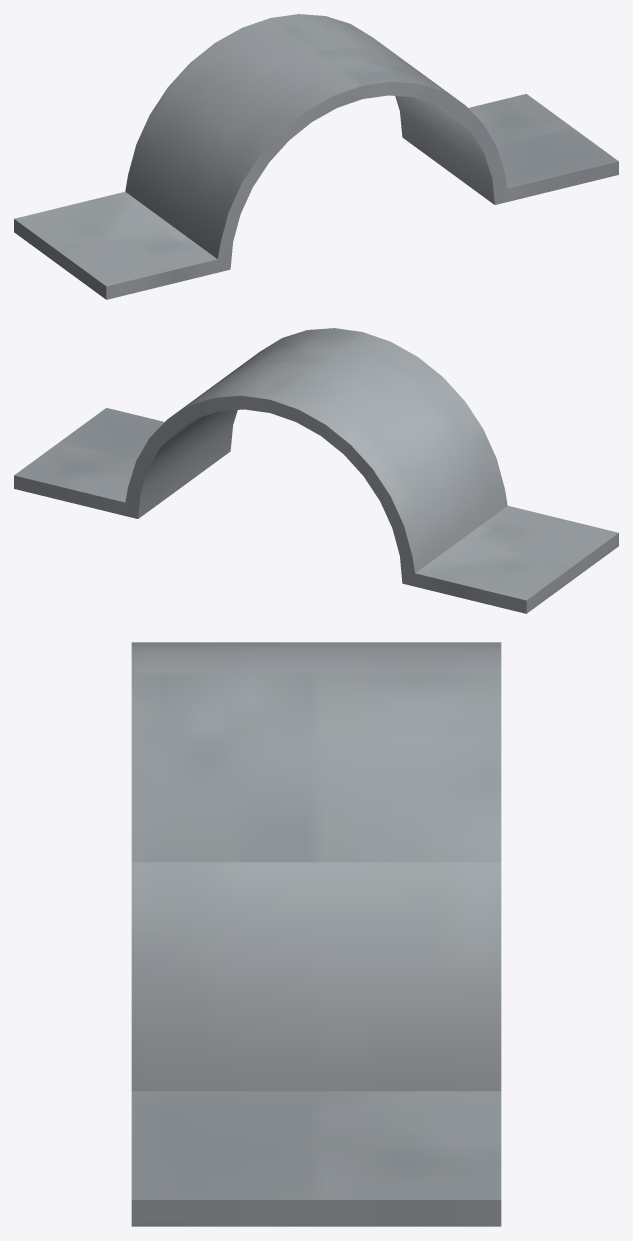
Rendered from HID-INS-004.glb.
3 views of the same model, one above another, from view 1: azimuth 30°, elevation 25°; view 2: azimuth 150°, elevation 25°; view 3: azimuth 270°, elevation 25° (orthographic). The views are drawn at different scales.
Parts seen in each view (by area): view 1: HID-INS-004_abracadeira; view 2: HID-INS-004_abracadeira; view 3: HID-INS-004_abracadeira.
Boxes of the visible parts, x1,y1,x2,y2 form: HID-INS-004_abracadeira: (14, 14, 618, 299); HID-INS-004_abracadeira: (14, 328, 618, 613); HID-INS-004_abracadeira: (131, 642, 501, 1226).
Size of the model in its own units: 0.064 by 0.0181 by 0.02.
Materials: 1 (1 with a texture image).
